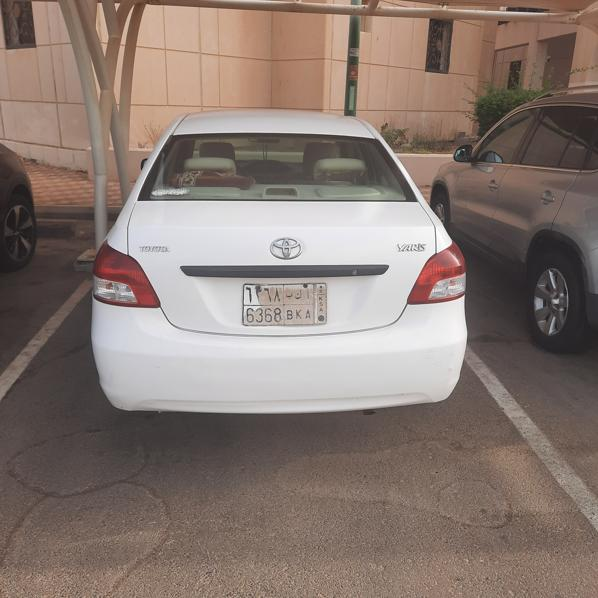numberplate: (243, 283, 327, 326)
